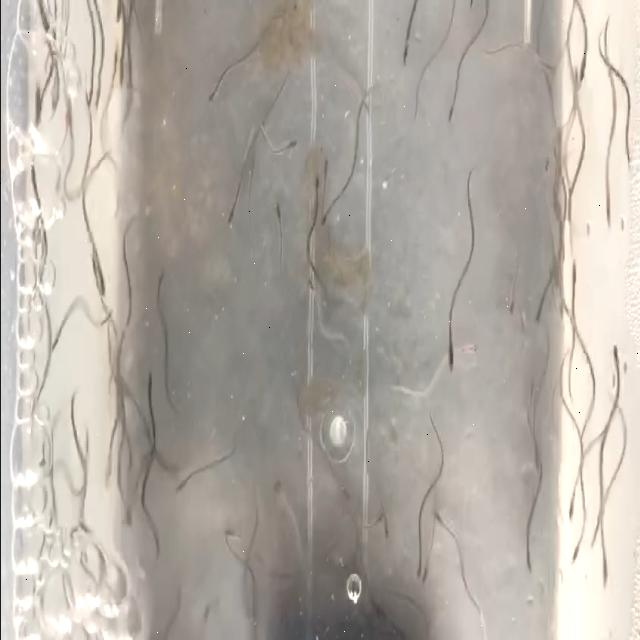active_glass_eel: (606, 338, 626, 388), (30, 80, 46, 132), (88, 257, 108, 297), (526, 367, 543, 414), (443, 325, 457, 377), (200, 597, 220, 631), (598, 188, 614, 230), (100, 446, 114, 494), (170, 473, 190, 505), (142, 364, 160, 399), (566, 256, 580, 298), (334, 473, 354, 502), (397, 36, 413, 72), (622, 134, 636, 174), (223, 194, 239, 228), (274, 476, 290, 510), (462, 338, 480, 368), (84, 67, 95, 115), (566, 538, 580, 574), (444, 91, 458, 127), (153, 264, 167, 300), (222, 519, 240, 547), (46, 322, 60, 358), (204, 82, 222, 109), (268, 198, 284, 228), (113, 56, 125, 94), (576, 50, 587, 90), (278, 134, 300, 154), (541, 138, 553, 174), (304, 272, 316, 308), (320, 154, 330, 197), (309, 176, 323, 206), (534, 296, 546, 330), (539, 57, 557, 79), (420, 557, 432, 590), (565, 494, 579, 522), (430, 506, 444, 534), (379, 514, 393, 542), (530, 442, 542, 474), (317, 208, 333, 232), (414, 551, 424, 583), (372, 506, 388, 526), (114, 0, 126, 26), (505, 286, 515, 316), (96, 80, 104, 116)
